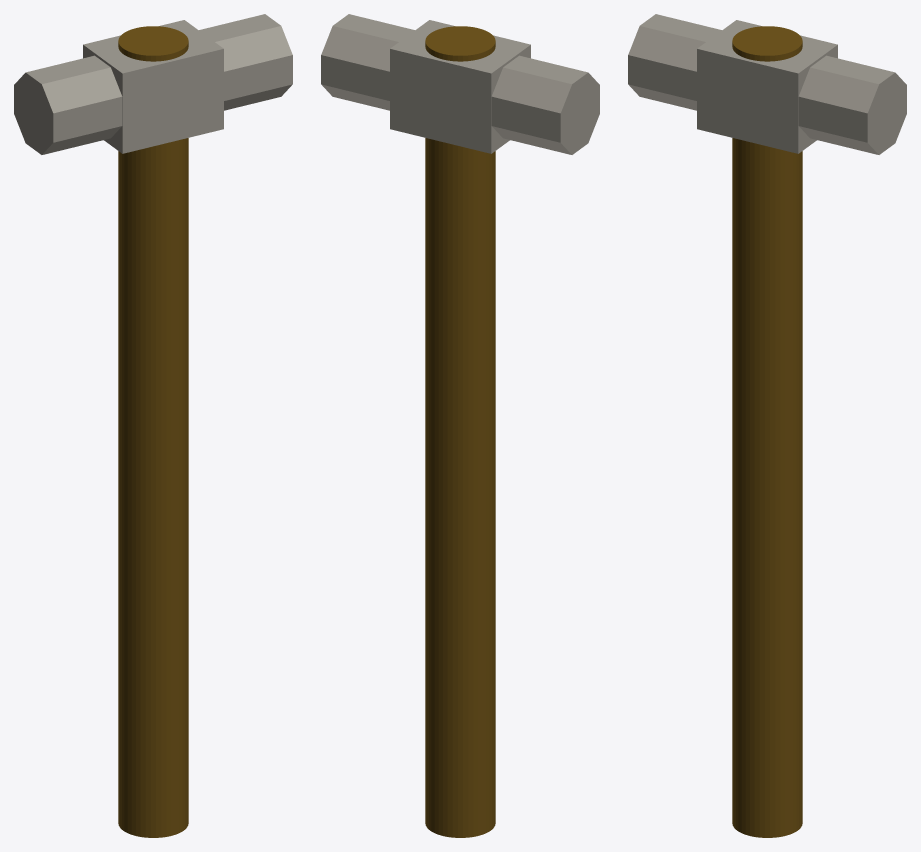
The model's file is Sledgehammer.fbx.
The picture shows the model from 3 angles, left to right: view 1: azimuth 30°, elevation 25°; view 2: azimuth 150°, elevation 25°; view 3: azimuth 330°, elevation 25°; orthographic projection.
Parts seen in each view (by area): view 1: Sledgehammer; view 2: Sledgehammer; view 3: Sledgehammer.
Boxes of the visible parts, left/top/right/bottom form: Sledgehammer: left=14, top=14, right=292, bottom=837; Sledgehammer: left=321, top=14, right=599, bottom=837; Sledgehammer: left=628, top=14, right=906, bottom=837.
Bounding box in the file's own units: 472 × 1474 × 135.
